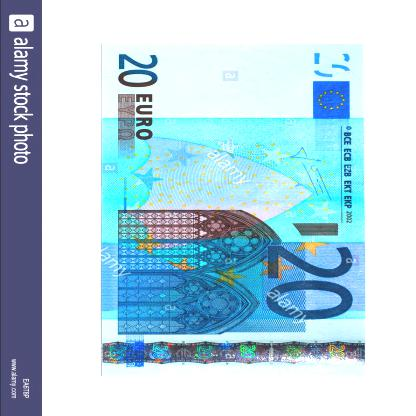euro_banknote: (67, 79, 400, 342)
